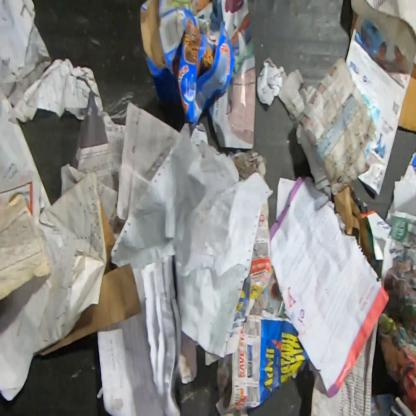cardboard: (39, 201, 143, 356), (138, 0, 236, 137), (332, 185, 371, 265), (397, 63, 416, 132)
soft_plastic: (70, 90, 108, 169), (103, 92, 147, 125)
